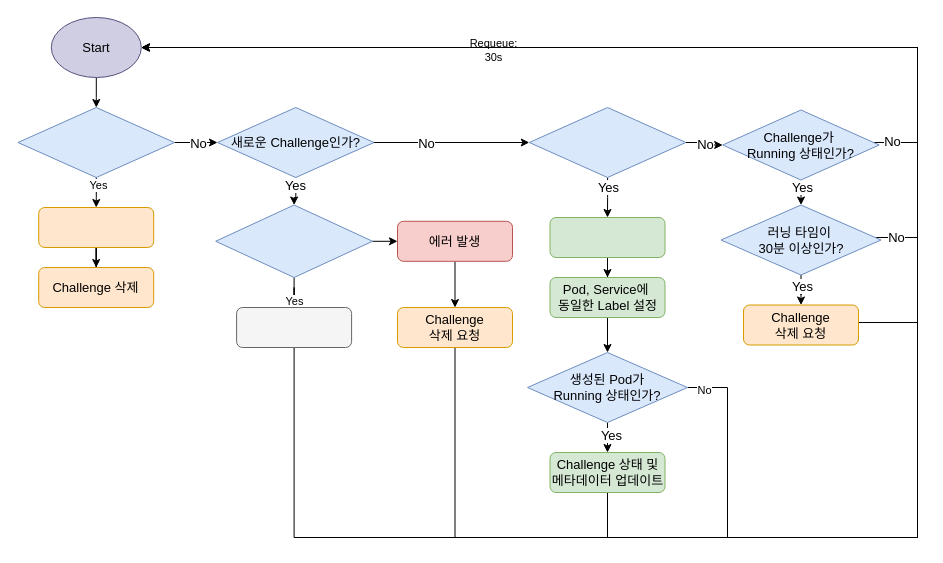
Some shapes in this 943 by 563 pixel diagram are drawn without their labels. Each missing label, with the centre of its shape:
Challenge 생성 및 Finalizer 추가: [294,327]
Challenge가 Pending 상태인가?: [607,142]
Finalizer 제거: [96,227]
Pod&Service 생성: [607,237]
삭제를 요청했는가?: [95,142]
요구하는 ChallengeDefinition 존재하는가?: [293,241]
